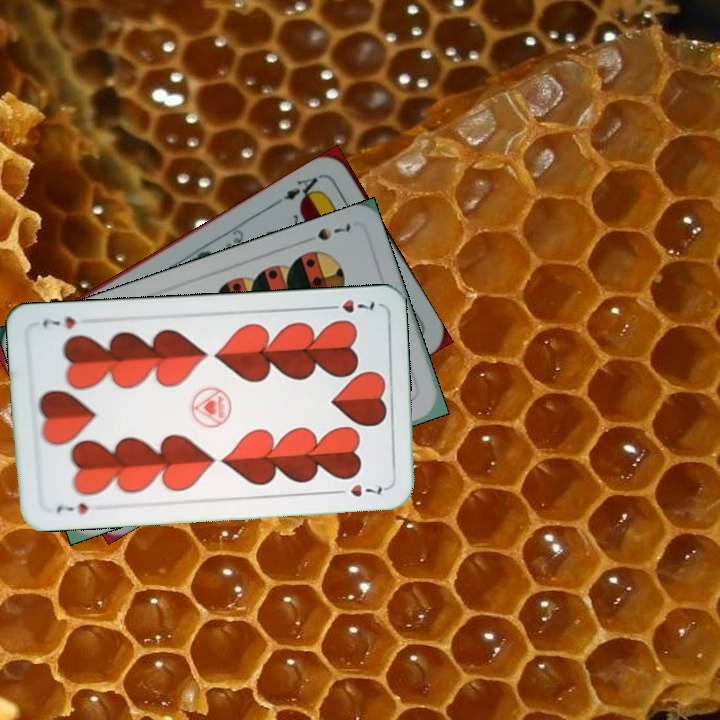EA: (272, 170, 325, 207)
H7: (321, 295, 378, 315), (52, 499, 91, 517)
S7: (313, 220, 356, 244)
